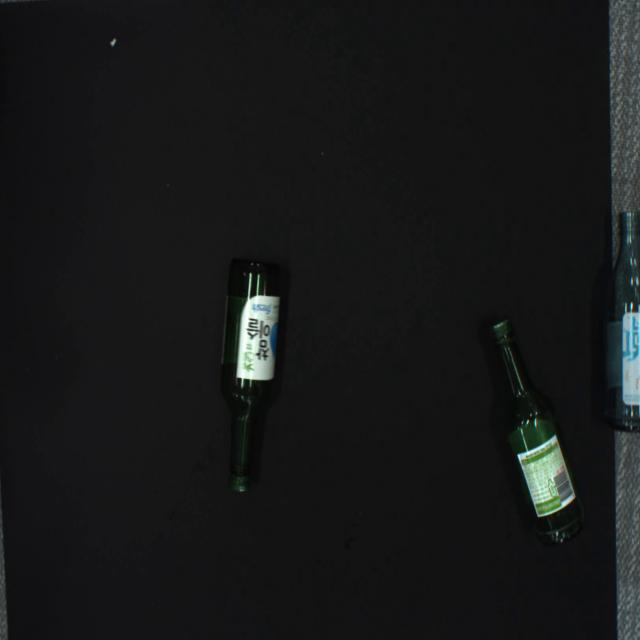soju-bottle: (491, 317, 585, 546), (220, 259, 282, 493), (605, 210, 640, 432)
